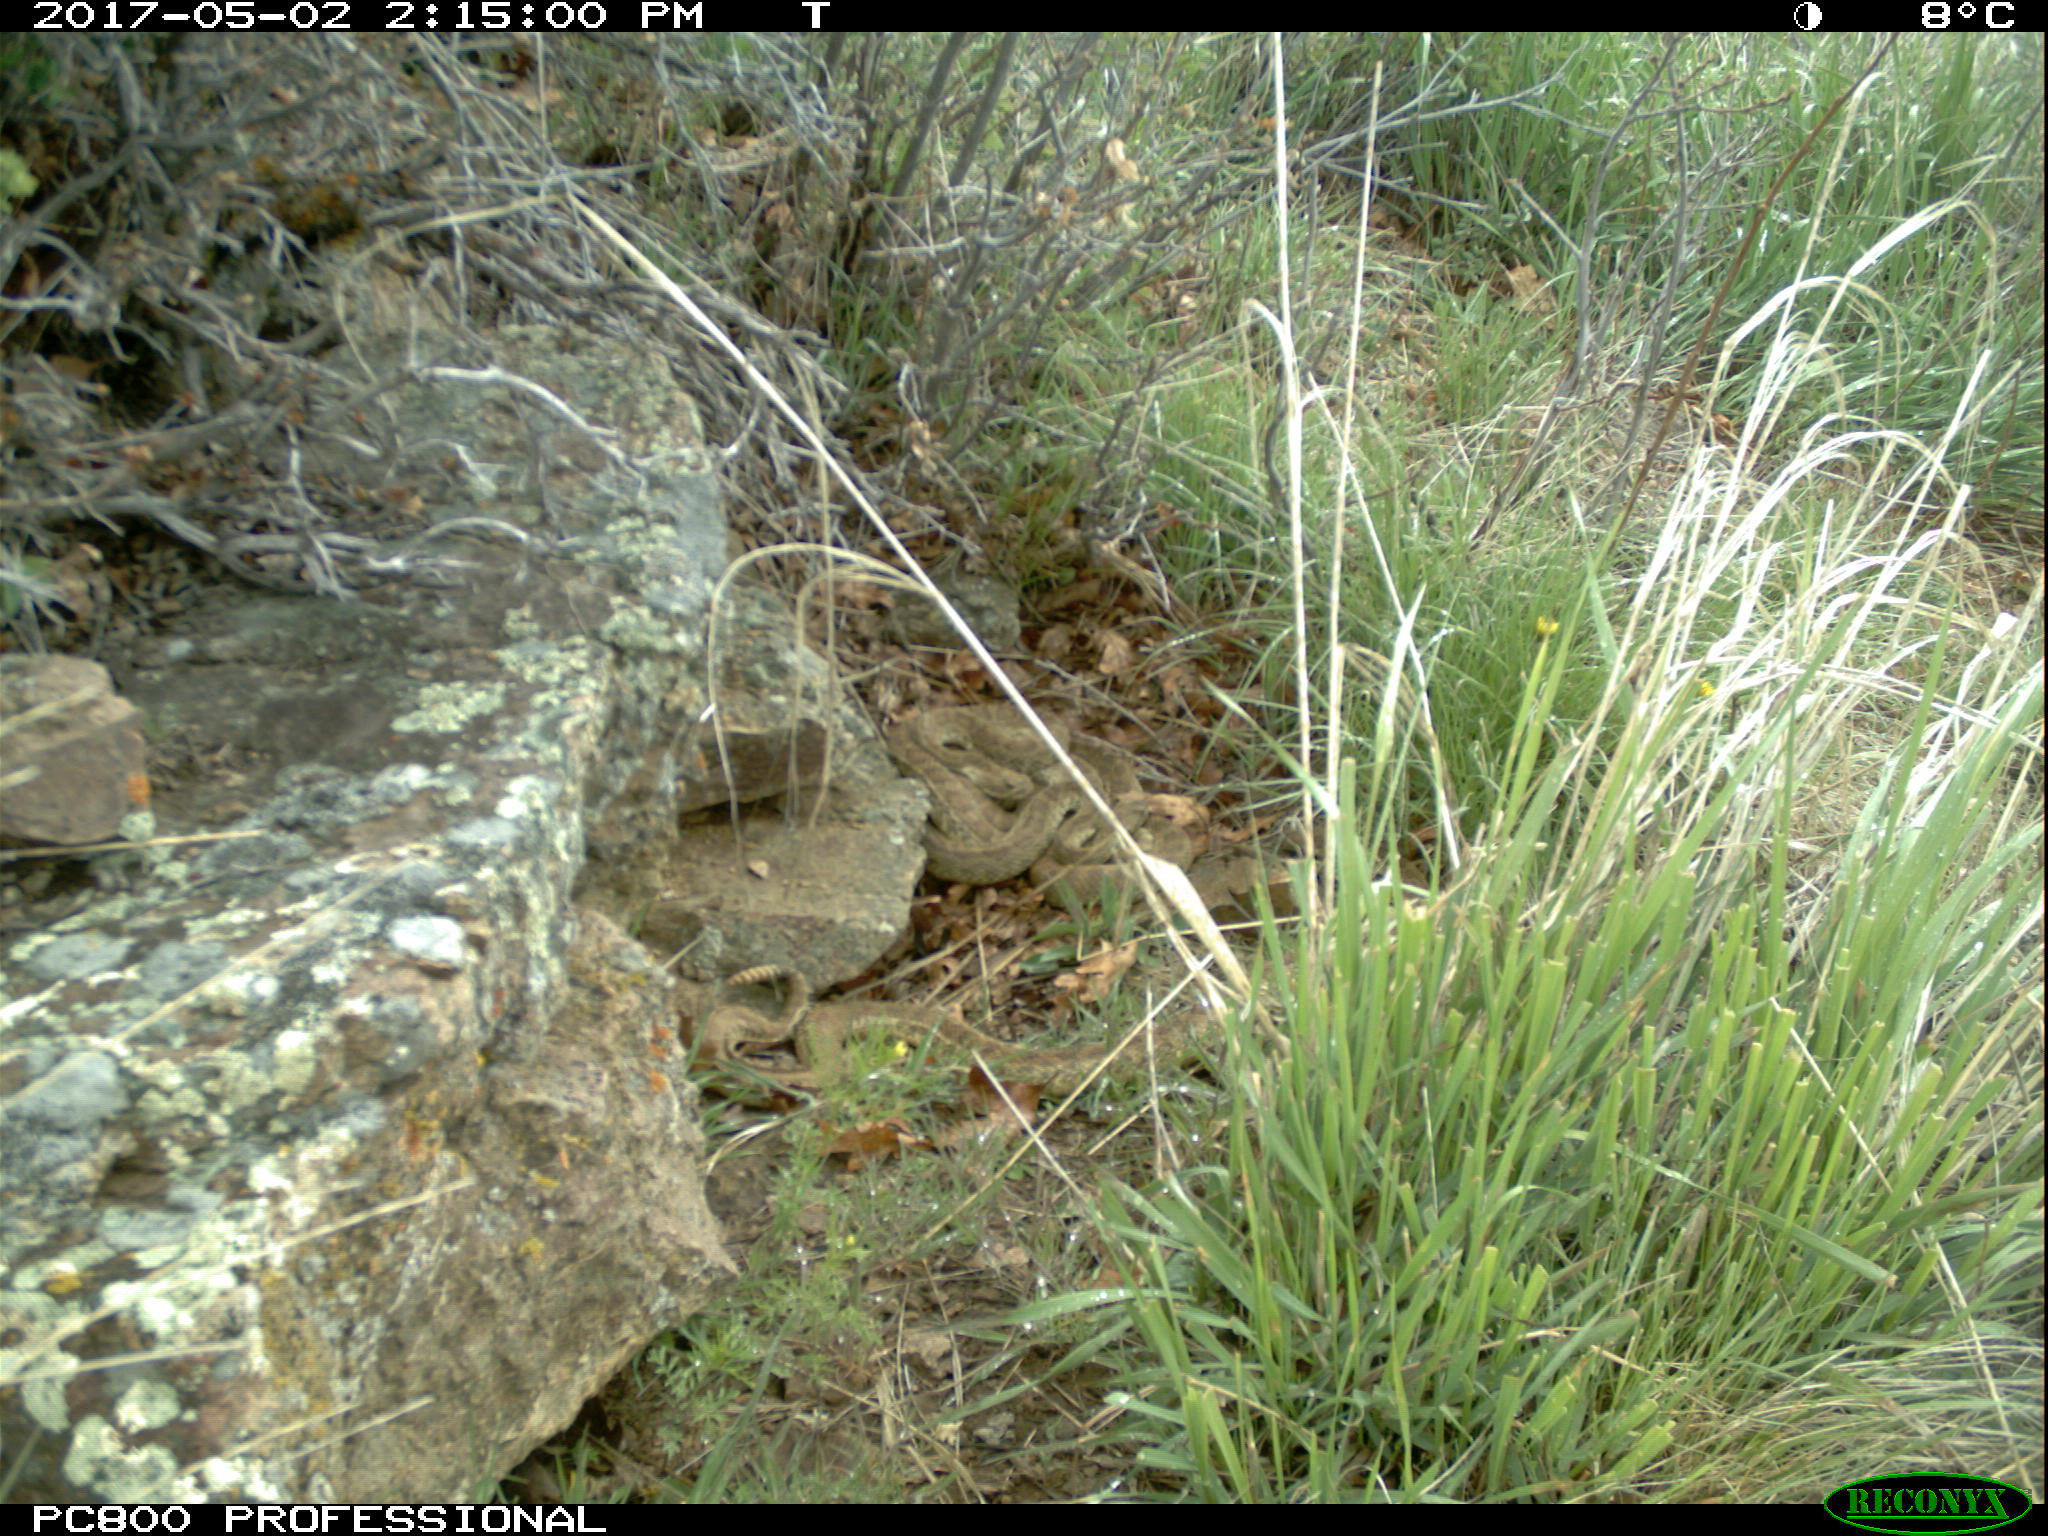snake: (677, 963, 1237, 1091), (884, 681, 1150, 883), (1047, 807, 1305, 916)
